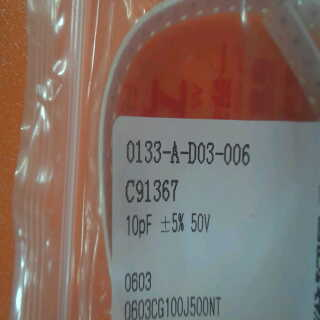10pF: (119, 212, 157, 236)
